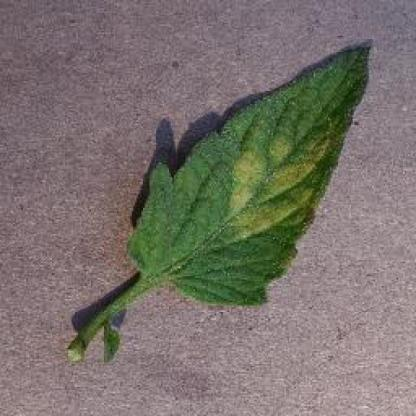Tomato_Leaf_Mold: (127, 45, 371, 302)
